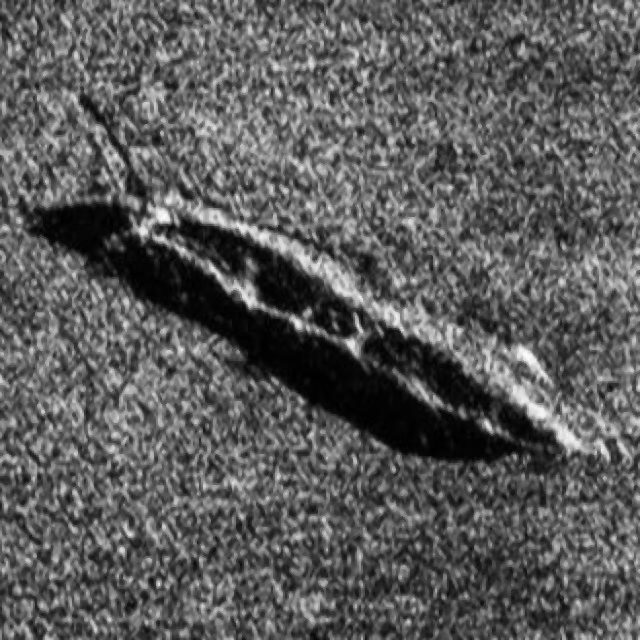Ship: (25, 172, 592, 474)
